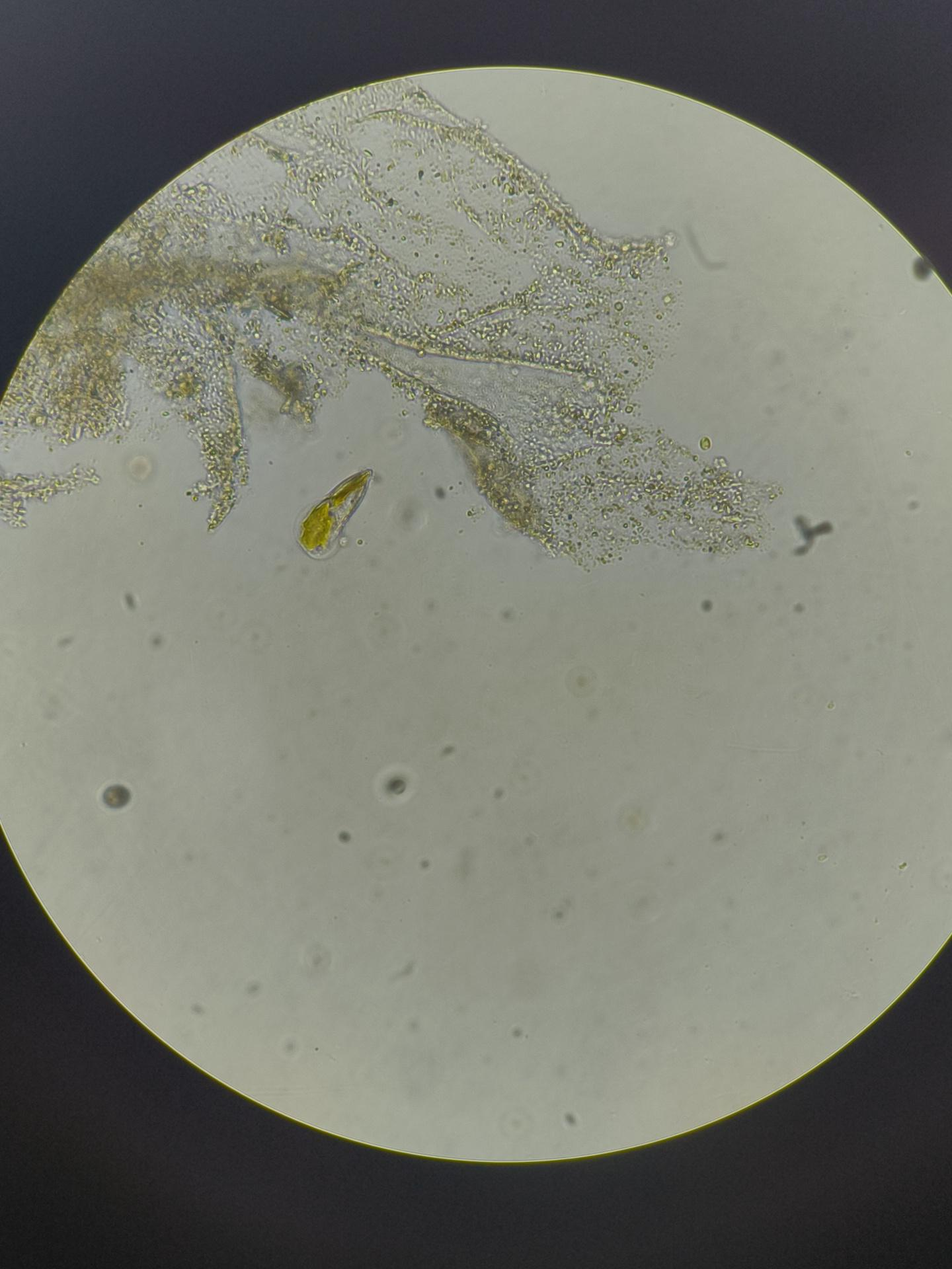Euglena: (288, 453, 382, 567)
